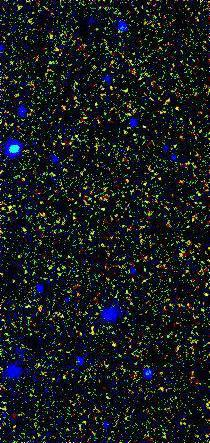star: (97, 331, 127, 361)
